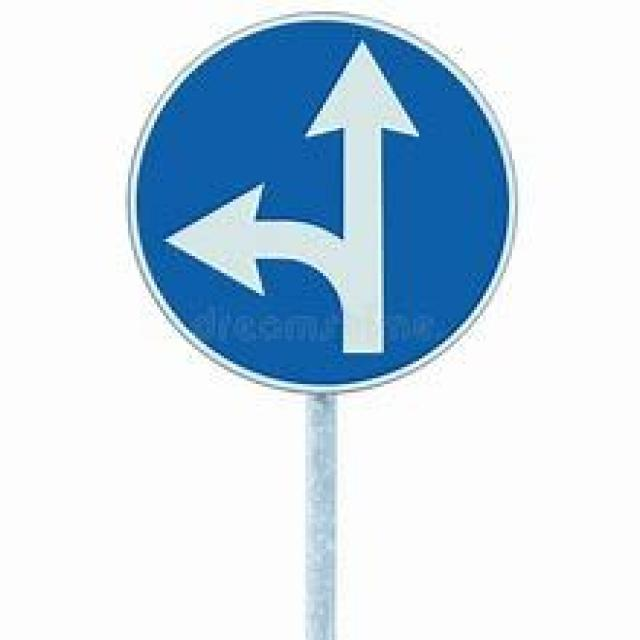COMPULSARY_AHEAD_OR_TURN_LEFT: (119, 8, 517, 397)
